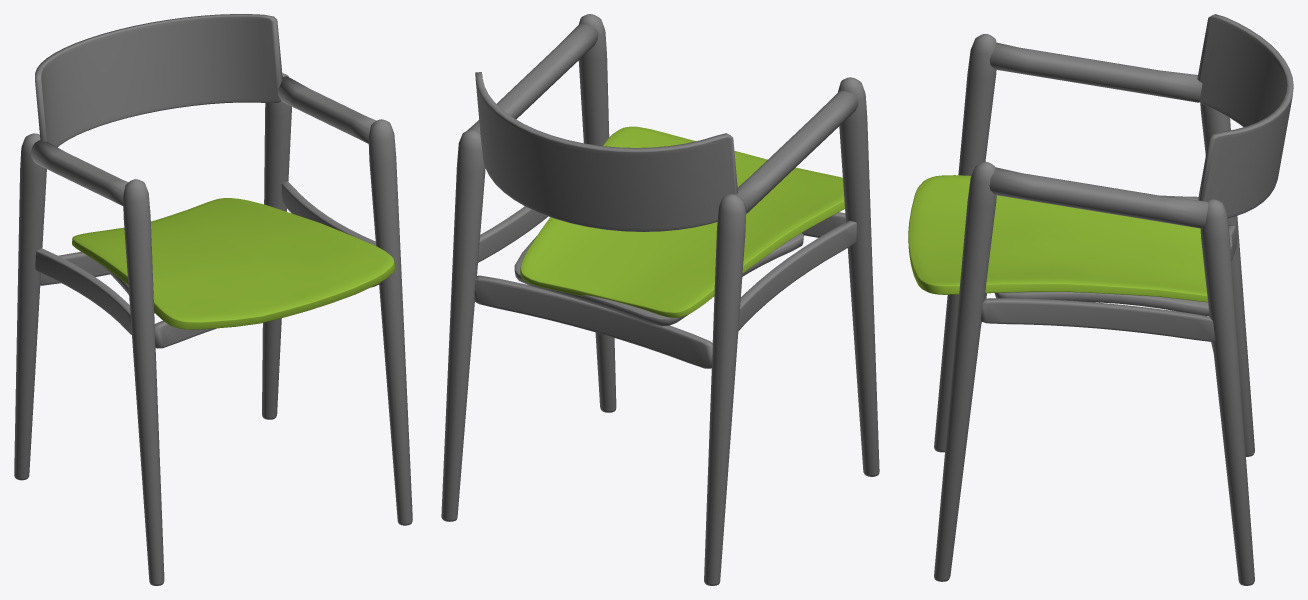
The model's file is CHR_Ivanna.FBX.
The picture shows the model from 3 angles, left to right: view 1: azimuth 30°, elevation 25°; view 2: azimuth 150°, elevation 25°; view 3: azimuth 270°, elevation 25°; orthographic projection. The views are drawn at different scales.
Visible parts, largest first — view 1: Box255; view 2: Box255; view 3: Box255.
Boxes of the visible parts, box(x1,y1,x2,y2) form: Box255: box(14, 14, 412, 585); Box255: box(441, 14, 879, 585); Box255: box(908, 14, 1293, 585).
Bounding box in the file's own units: 53.52 × 77.07 × 60.88.
